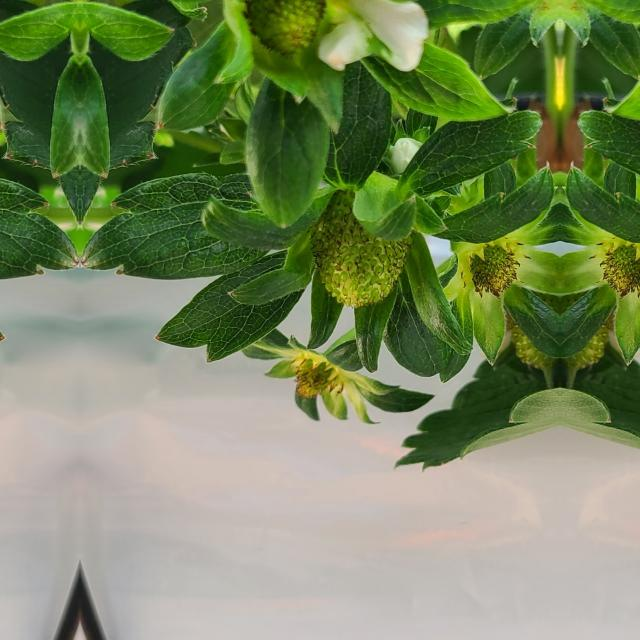Health_25: (308, 188, 409, 308), (468, 236, 522, 296), (597, 236, 640, 296)
